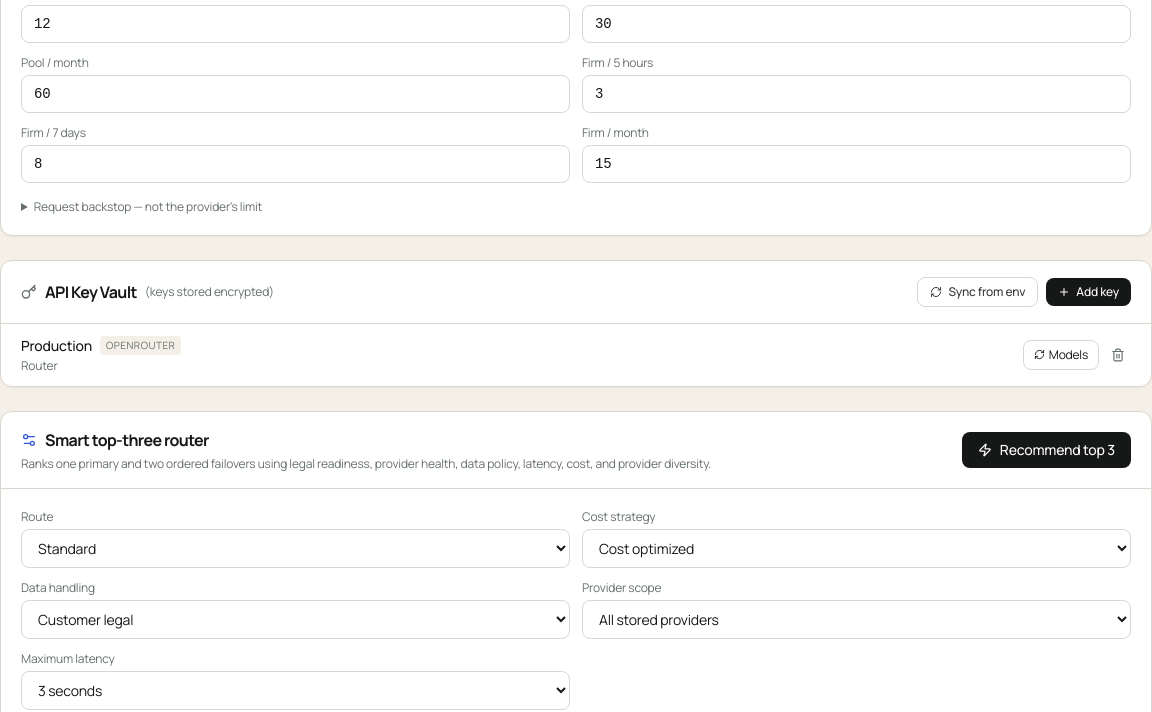
Test: platform AI routing › surfaces a key deletion conflict from an active route
(page scrolled)
Click the button titled "Delete this key from the vault". click: x=1118, y=354
box: [1105, 342, 1131, 368]
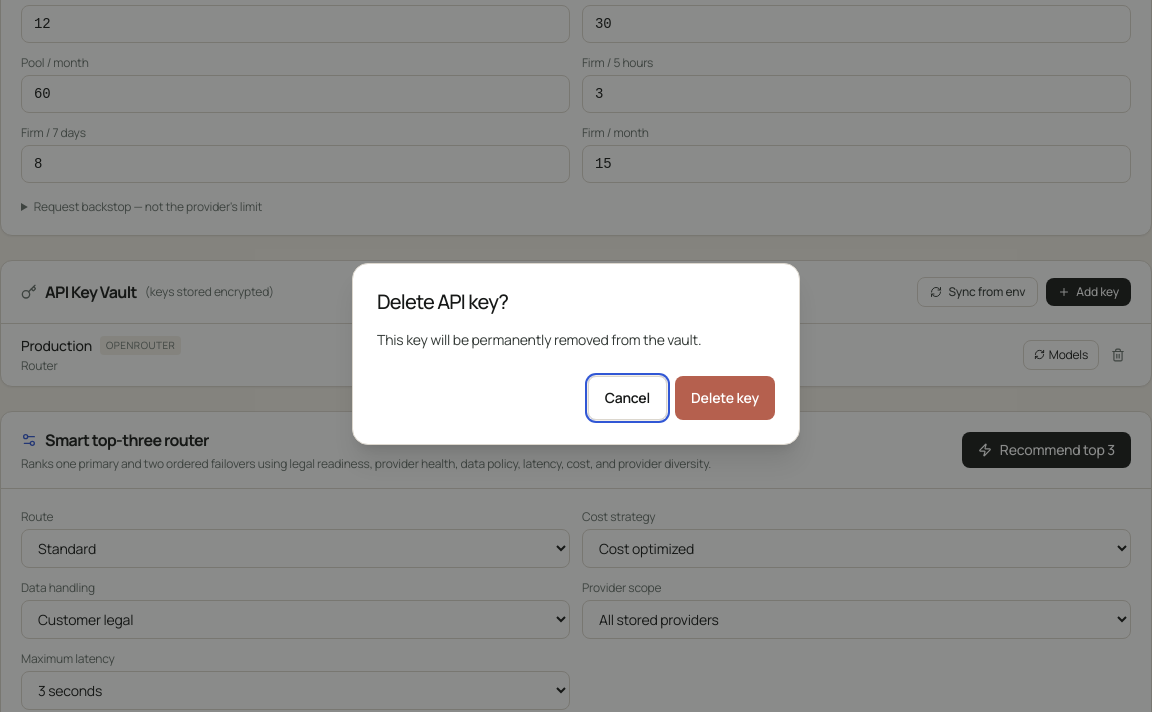
Click the button "Delete key". click: x=725, y=398
box: [675, 376, 775, 420]
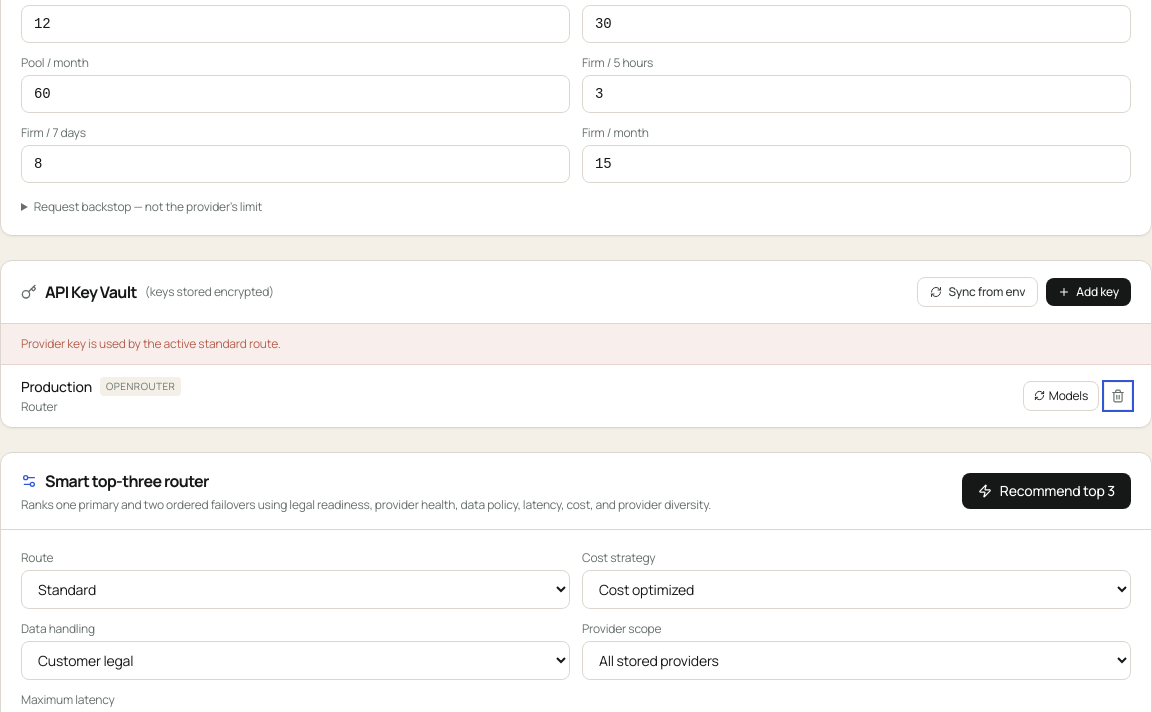
Now the message reads "Provider key is used by the active standard route.", box [21, 334, 281, 352]
